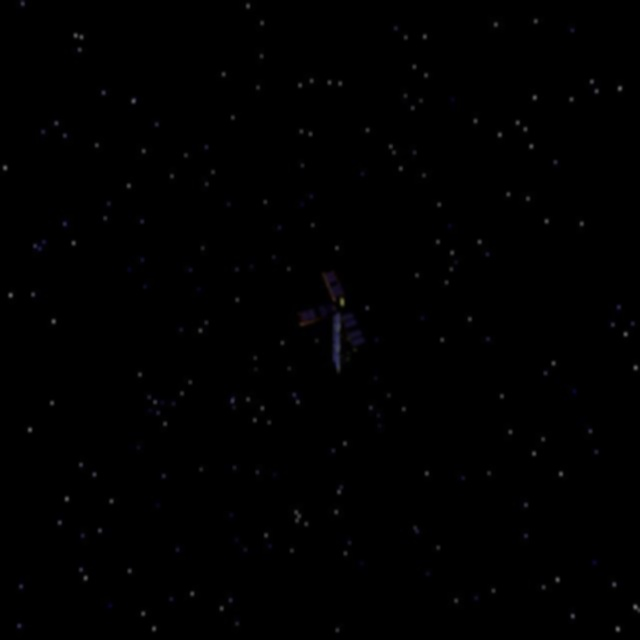medium_debris: (292, 265, 373, 383)
